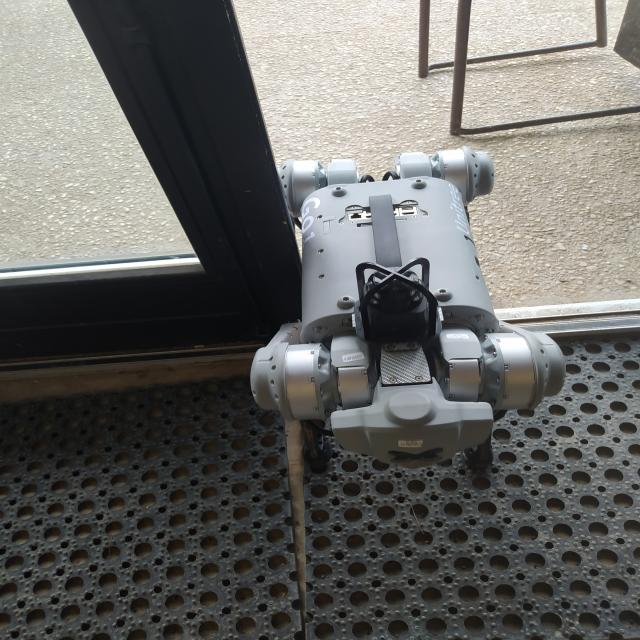unitree-go1-robot: (240, 151, 566, 493)
